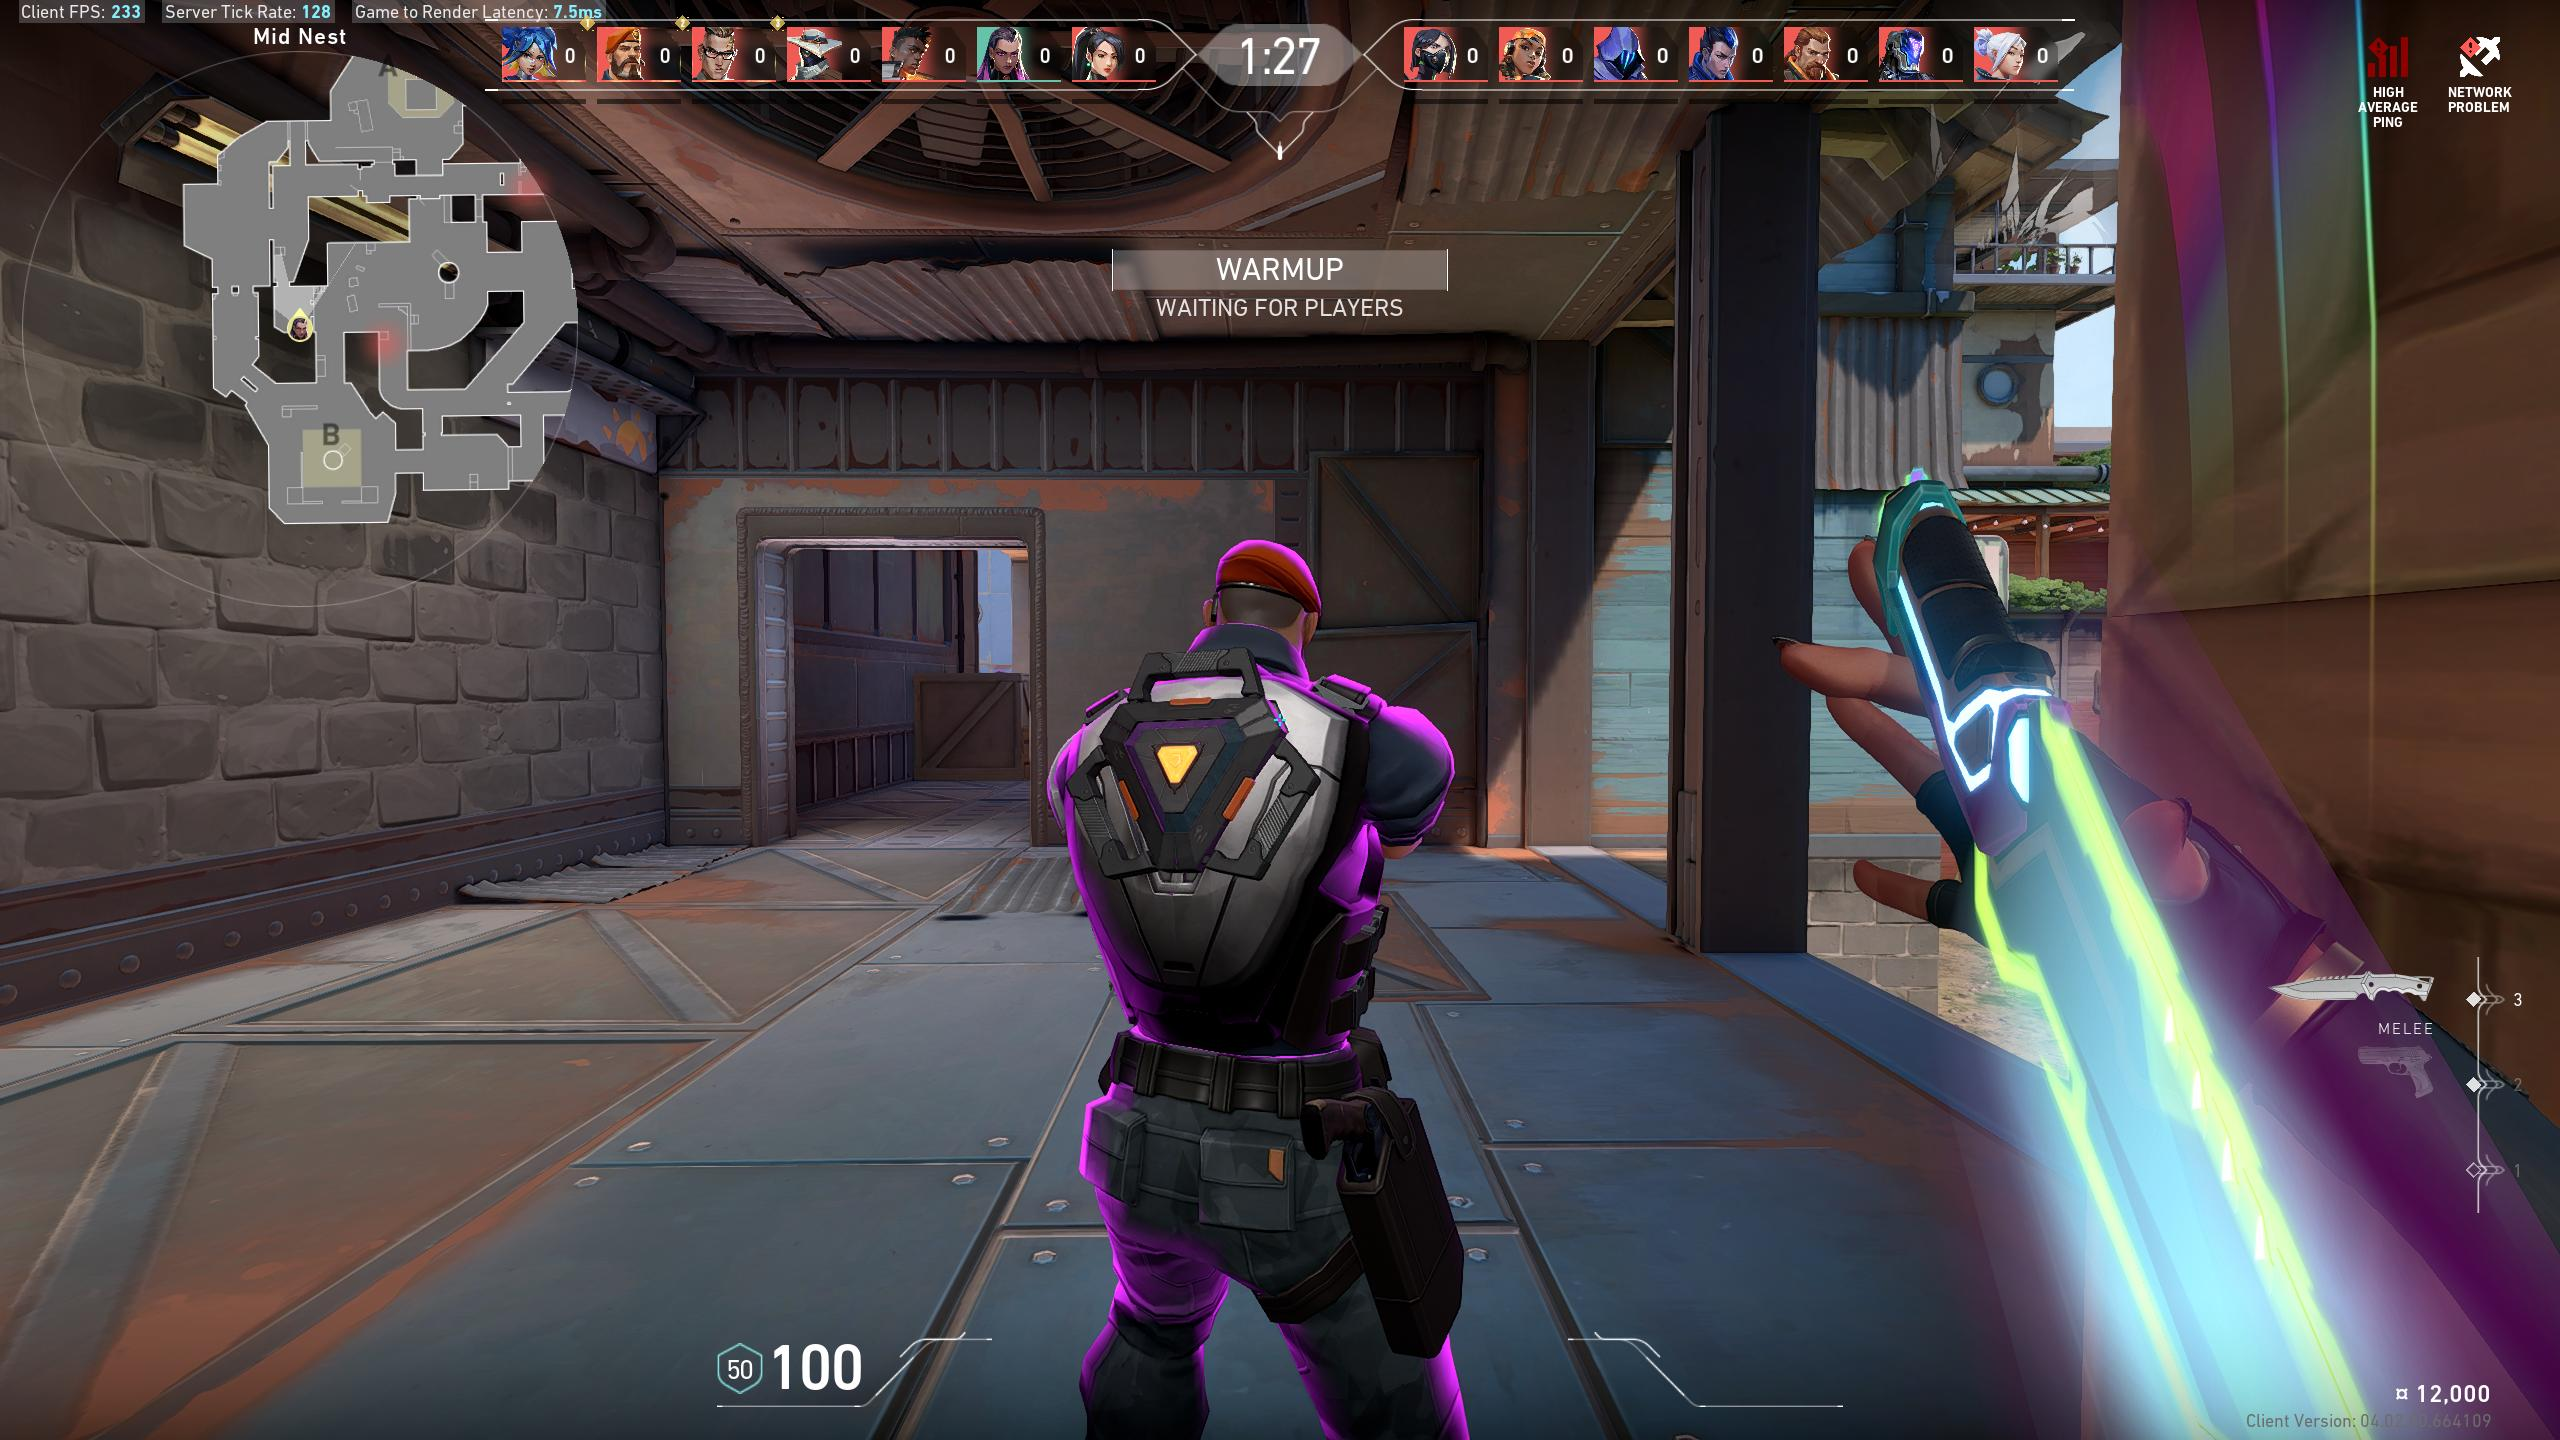enemyBody: (1120, 695, 1335, 1027)
enemyHead: (1218, 552, 1292, 656)
